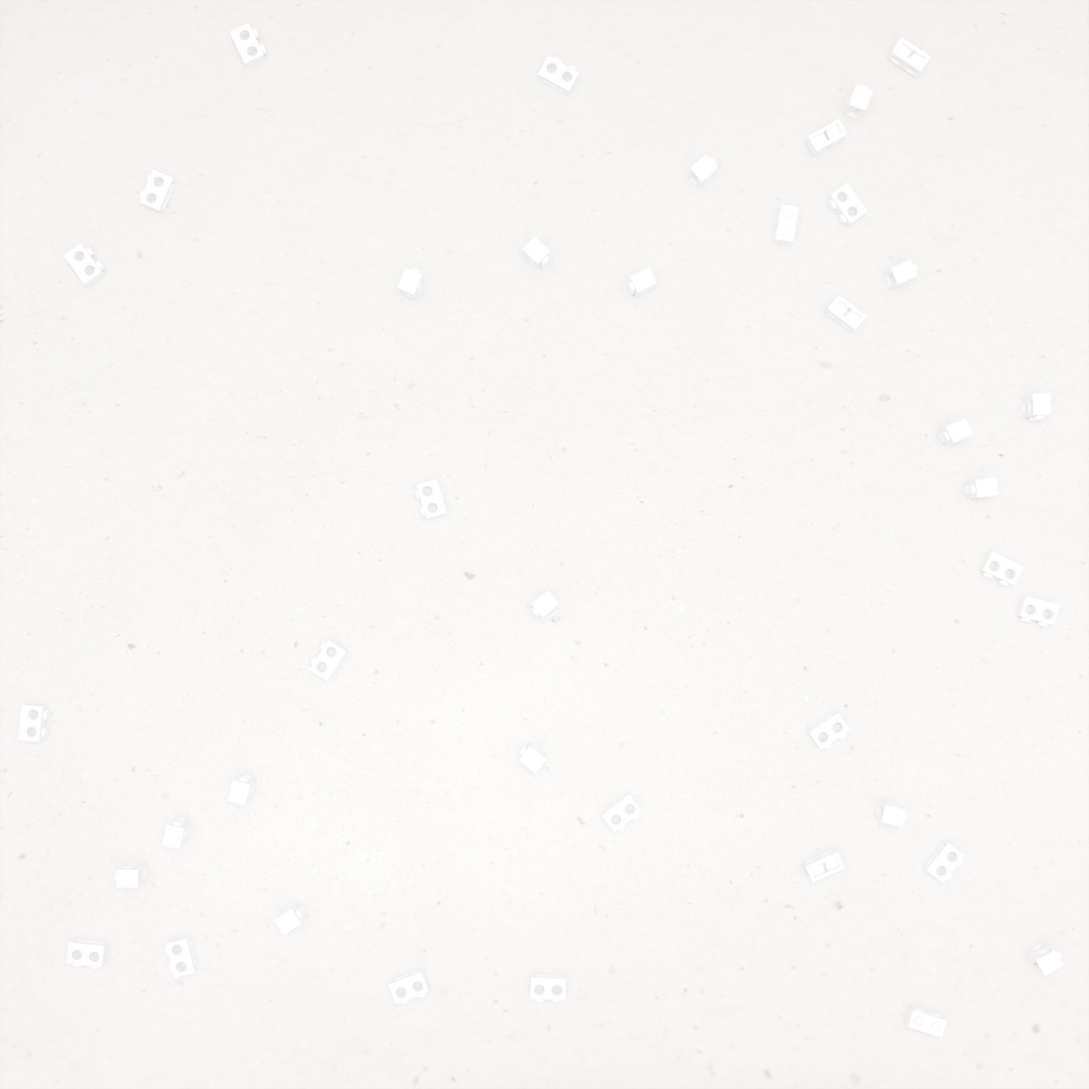lego: (922, 839, 965, 884), (64, 243, 106, 287), (827, 182, 868, 227), (887, 37, 931, 78), (229, 23, 267, 69), (601, 792, 643, 833), (806, 711, 850, 750), (538, 55, 579, 96), (824, 294, 867, 333), (804, 119, 848, 157), (139, 170, 177, 214), (978, 551, 1024, 587), (309, 639, 348, 681), (388, 967, 430, 1005), (802, 848, 845, 883), (903, 1004, 947, 1038), (165, 934, 199, 978), (1015, 595, 1060, 627), (1025, 941, 1064, 976), (66, 938, 109, 969), (415, 479, 448, 519), (18, 703, 50, 742), (274, 901, 307, 936), (687, 154, 718, 190), (842, 84, 873, 120), (773, 204, 799, 246), (883, 259, 918, 290), (530, 973, 566, 1003), (937, 418, 973, 445), (227, 773, 257, 805), (162, 817, 192, 849), (874, 799, 908, 827), (522, 236, 550, 270), (627, 267, 657, 298), (518, 742, 547, 774), (397, 267, 425, 300), (114, 862, 147, 888), (531, 589, 559, 618), (1022, 393, 1051, 421), (964, 477, 999, 499)
